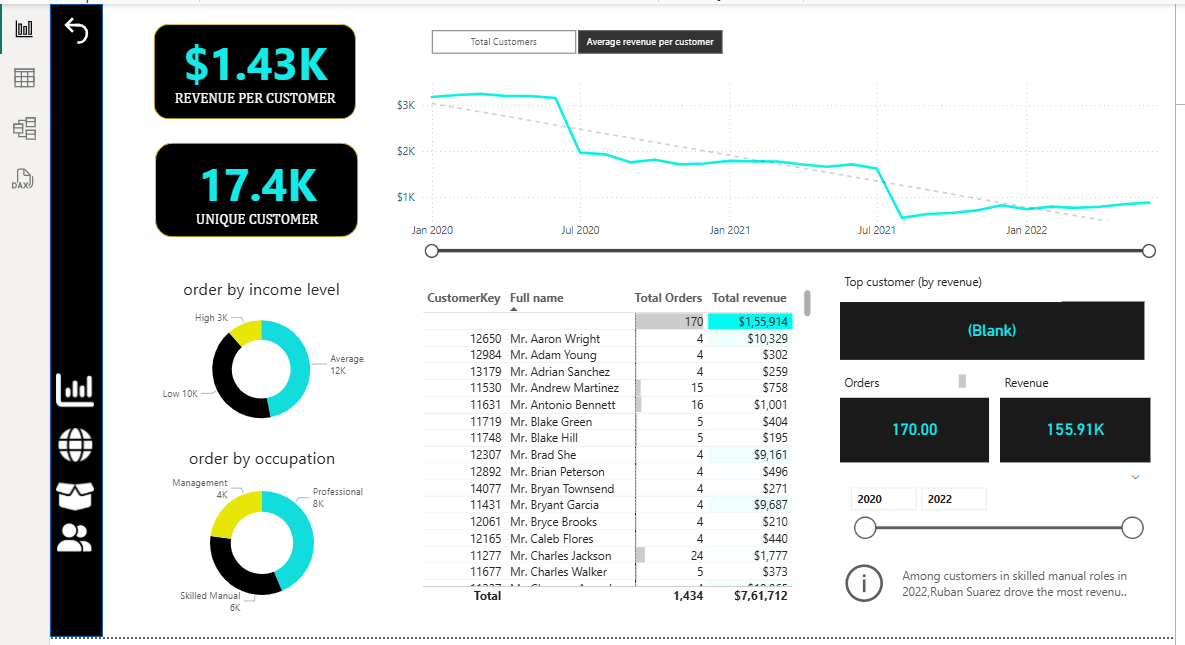

What the dashboard file says about the page in this screenshot:
{"tool":"powerbi","page":{"name":"CUSTOMER","canvas":[1280,720],"ordinal":1},"visuals":[{"type":"actionButton","box":[2.4,409.6,51.4,58.7],"z":0,"group":"g1"},{"type":"shape","box":[118.3,23.3,230,108.3],"z":0},{"type":"actionButton","box":[5.5,473.6,46.5,56.3],"z":1000,"group":"g1"},{"type":"shape","box":[120,157.5,231.2,107.5],"z":1000},{"type":"card","fields":{"Values":["Measure Table.Average revenue per customer"]},"box":[120,23.3,228.3,103.3],"z":2000},{"type":"actionButton","box":[3,534.9,51.4,55],"z":2000,"group":"g1"},{"type":"lineChart","fields":{"Y":["Measure Table.Average revenue per customer"],"Category":["Calendar Lookup.Date Hierarchy.Date","Calendar Lookup.Date Hierarchy.Start of Month","Calendar Lookup.Date Hierarchy.Start of Quarter","Calendar Lookup.Date Hierarchy.Start of Week","Calendar Lookup.Date Hierarchy.Start of Year"]},"box":[389.5,75,890.2,216.4],"z":3000},{"type":"donutChart","title":"order by income level","fields":{"Y":["Measure Table.Total Orders"],"Category":["Customer Lookup.Incomelevel"]},"box":[118.8,311.2,245,183.8],"z":4000},{"type":"donutChart","title":"order by occupation","fields":{"Y":["Measure Table.Total Orders"],"Category":["Customer Lookup.Occupation"]},"box":[118.3,503.3,246.7,195],"z":5000},{"type":"tableEx","fields":{"Values":["Customer Lookup.CustomerKey","Customer Lookup.Full name","Measure Table.Total Orders","Measure Table.Total revenue"]},"box":[418.4,320.3,453,366.5],"z":6000},{"type":"card","fields":{"Values":["Measure Table.Total Revenue(customer details)"]},"box":[1081.2,447.8,171,73.9],"z":7000},{"type":"card","fields":{"Values":["Measure Table.Full Name(Customer Detail)"]},"box":[898.6,339.1,346.4,66.7],"z":8000},{"type":"card","fields":{"Values":["Measure Table.Total orders(customer details)"]},"box":[898.6,447.8,169.6,73.9],"z":9000},{"type":"textbox","box":[898.6,301.4,252.2,37.7],"z":10000},{"type":"textbox","box":[898.6,417.4,147.8,24.6],"z":11000},{"type":"textbox","box":[1081.2,417.4,171,30.4],"z":12000},{"type":"slicer","fields":{"Values":["Calendar Lookup.Year"]},"box":[898.6,531.9,353.6,89.9],"z":13000},{"type":"shape","title":"left line","box":[0,0,60,720],"z":14000},{"type":"card","fields":{"Values":["Measure Table.Total Customers"]},"box":[121.2,158.8,230,106.2],"z":15000},{"type":"actionButton","box":[10,10,50.5,40.4],"z":16000},{"type":"actionButton","box":[898.6,631.9,330.4,55.1],"z":17000},{"type":"actionButton","box":[0,583.3,55,47.7],"z":18000},{"type":"group","id":"g1","title":"Navigation Buttons","box":[2.4,409.6,52,180.4],"z":19000},{"type":"slicer","fields":{"Values":["Customer Metric Selection.Customer Metric Selection"]},"box":[408.3,23.1,380.9,40.4],"z":20000}]}

Visuals, with their boxes on the page's 1280x720 design canvas (x1, y1, x2, y2). These are canvas units, not pixel positions in the 1185x645 screenshot, which may show the page scaled, cropped or inside an application window:
actionButton: l=2, t=410, r=54, b=468
shape: l=118, t=23, r=348, b=132
actionButton: l=6, t=474, r=52, b=530
shape: l=120, t=158, r=351, b=265
card - Measure Table.Average revenue per customer: l=120, t=23, r=348, b=127
actionButton: l=3, t=535, r=54, b=590
lineChart - Measure Table.Average revenue per customer x Calendar Lookup.Date Hierarchy.Date: l=390, t=75, r=1280, b=291
"order by income level" donutChart: l=119, t=311, r=364, b=495
"order by occupation" donutChart: l=118, t=503, r=365, b=698
tableEx - Customer Lookup.CustomerKey x Customer Lookup.Full name: l=418, t=320, r=871, b=687
card - Measure Table.Total Revenue(customer details): l=1081, t=448, r=1252, b=522
card - Measure Table.Full Name(Customer Detail): l=899, t=339, r=1245, b=406
card - Measure Table.Total orders(customer details): l=899, t=448, r=1068, b=522
textbox: l=899, t=301, r=1151, b=339
textbox: l=899, t=417, r=1046, b=442
textbox: l=1081, t=417, r=1252, b=448
slicer - Calendar Lookup.Year: l=899, t=532, r=1252, b=622
"left line" shape: l=0, t=0, r=60, b=720
card - Measure Table.Total Customers: l=121, t=159, r=351, b=265
actionButton: l=10, t=10, r=60, b=50
actionButton: l=899, t=632, r=1229, b=687
actionButton: l=0, t=583, r=55, b=631
"Navigation Buttons" group: l=2, t=410, r=54, b=590
slicer - Customer Metric Selection.Customer Metric Selection: l=408, t=23, r=789, b=64
